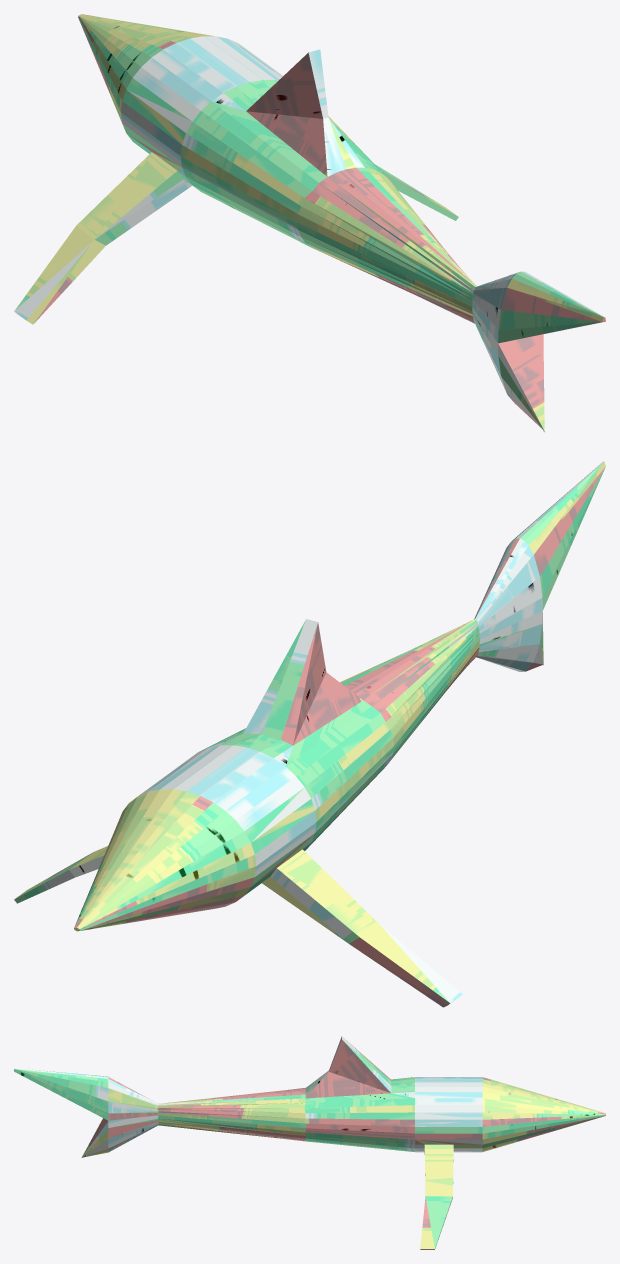
Rendered from shark2.obj.
The picture shows the model from 3 angles, top to bottom: view 1: azimuth 30°, elevation 25°; view 2: azimuth 150°, elevation 25°; view 3: azimuth 270°, elevation 25°; orthographic projection. The views are drawn at different scales.
Visible parts, largest first — view 1: Cylinder; view 2: Cylinder; view 3: Cylinder.
Part boxes in pixels (x1,y1,x2,y2): Cylinder: (14, 14, 605, 432); Cylinder: (14, 461, 605, 1007); Cylinder: (14, 1036, 605, 1249).
Size of the model in its own units: 2.19 by 1.32 by 4.58.
1 material, 1 textured.
